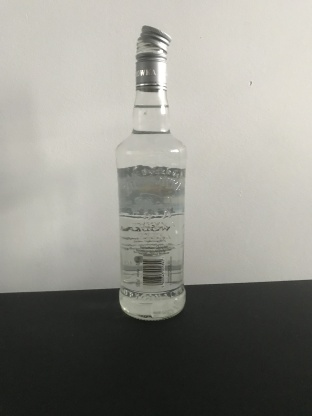nakretka: (133, 22, 172, 92)
